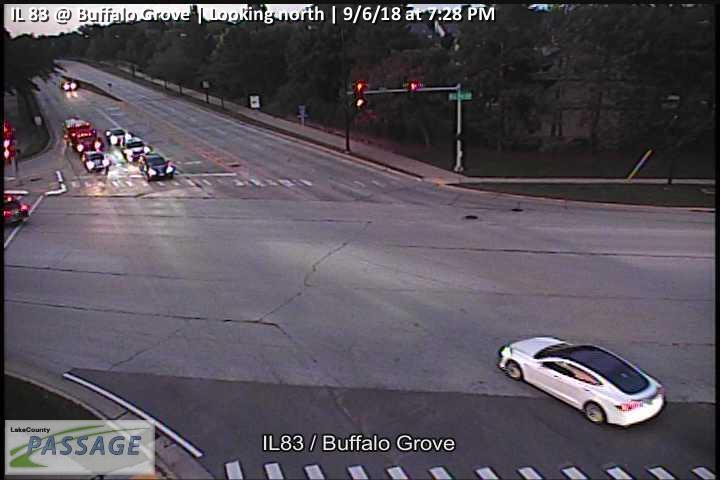Sedan: (498, 335, 666, 428), (136, 151, 176, 182), (81, 148, 111, 173), (122, 137, 151, 162), (103, 126, 132, 147)
Truck: (61, 112, 101, 154)
